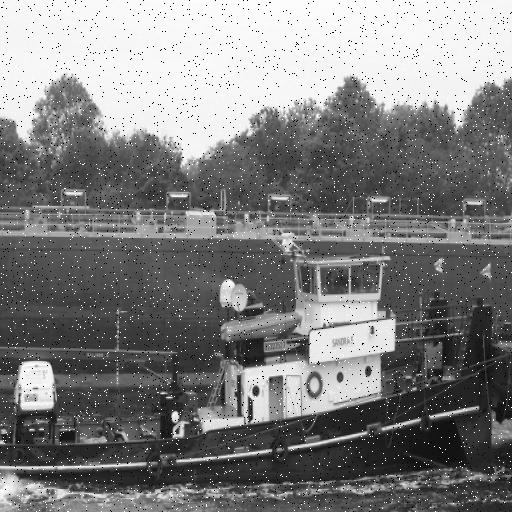tugboat: (1, 248, 501, 510)
